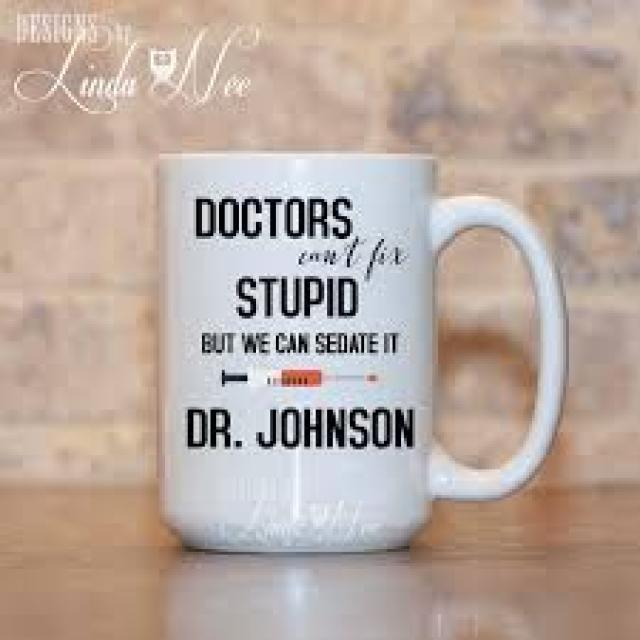taza: (128, 138, 571, 567)
